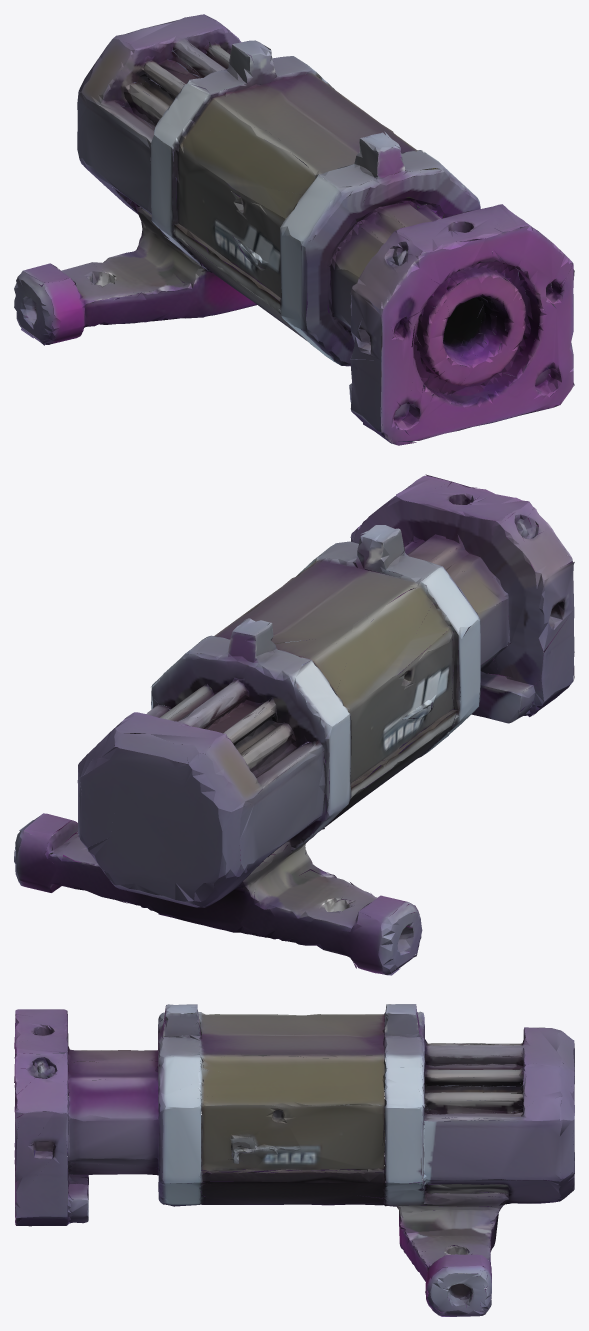
File: drifttuner_gatling.glb
3 views of the same model, one above another, from view 1: azimuth 30°, elevation 25°; view 2: azimuth 150°, elevation 25°; view 3: azimuth 270°, elevation 25° (orthographic). The views are drawn at different scales.
Parts seen in each view (by area): view 1: Gatling_Drift_Tuner_x; view 2: Gatling_Drift_Tuner_x; view 3: Gatling_Drift_Tuner_x.
Boxes of the visible parts, <box> form: Gatling_Drift_Tuner_x: <box>14,14,574,445</box>; Gatling_Drift_Tuner_x: <box>14,474,574,975</box>; Gatling_Drift_Tuner_x: <box>14,1004,574,1316</box>.
Size of the model in its own units: 0.5346 by 0.369 by 0.8022.
1 material, 1 textured.
